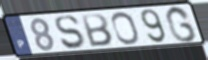8: (30, 16, 56, 52)
9: (139, 8, 169, 44)
B: (80, 13, 115, 48)
G: (164, 5, 199, 44)
O: (110, 11, 142, 46)
S: (54, 14, 86, 51)
